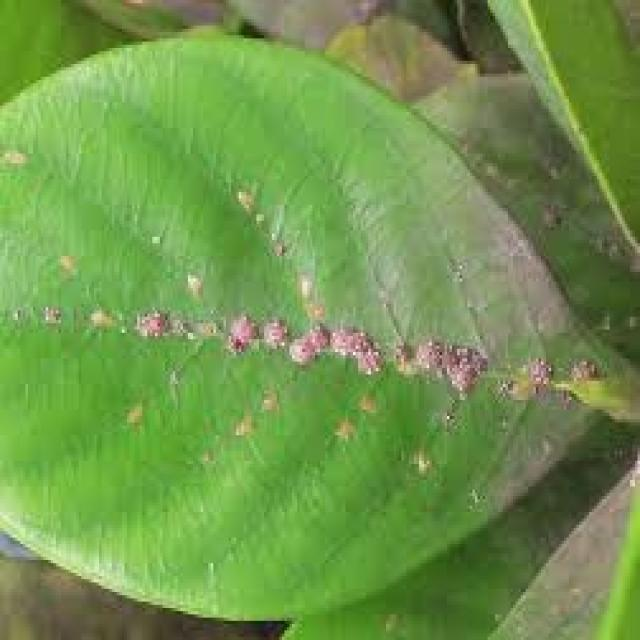scale_insect: (224, 307, 259, 349), (442, 355, 475, 397), (412, 330, 444, 371), (256, 310, 287, 352), (282, 330, 315, 368), (564, 349, 599, 384), (322, 320, 356, 355), (523, 349, 554, 387), (51, 243, 81, 282), (297, 317, 330, 352), (132, 304, 165, 339), (353, 342, 384, 378), (338, 323, 371, 355), (81, 301, 112, 333), (501, 374, 534, 404), (534, 196, 562, 230), (178, 266, 205, 300), (229, 406, 254, 442), (117, 394, 145, 426), (252, 381, 280, 413), (229, 180, 254, 214), (0, 140, 28, 170), (292, 266, 315, 300), (328, 412, 353, 442), (353, 387, 376, 416)
